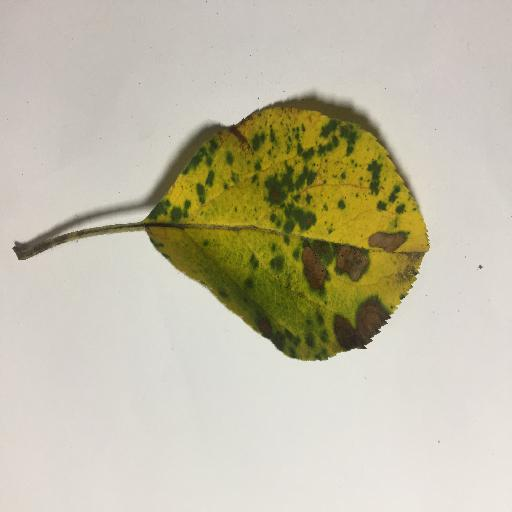Brown_Spot: (325, 245, 369, 282), (301, 249, 326, 290), (357, 305, 384, 339), (360, 228, 404, 246), (332, 319, 355, 351), (227, 122, 256, 145), (264, 189, 289, 204), (255, 320, 269, 335)
